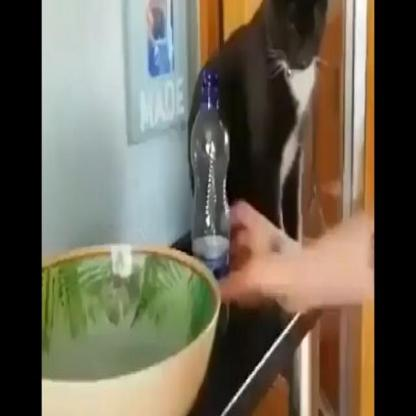Plastic Bottle: (190, 66, 230, 276)
